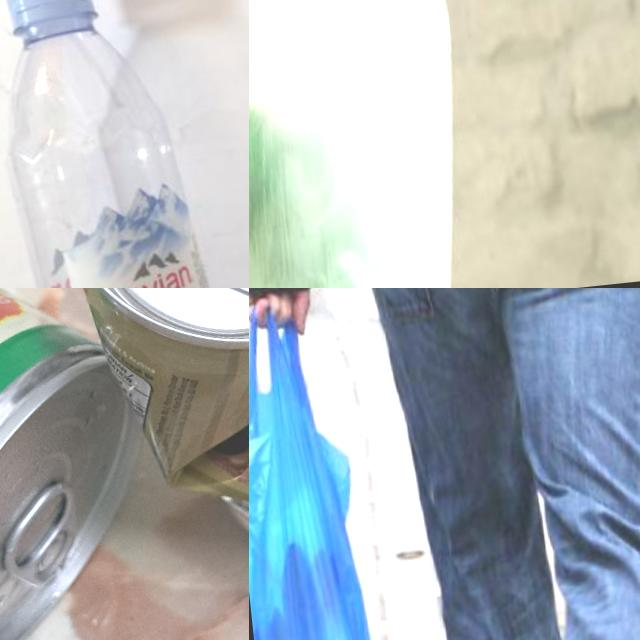aba de lata: (0, 478, 79, 591)
garrafa plástica: (0, 6, 223, 288)
lata: (59, 288, 249, 598), (0, 288, 165, 640)
sacola plástica: (249, 0, 483, 288), (249, 297, 407, 640)
tampa plástica: (2, 0, 100, 37)
